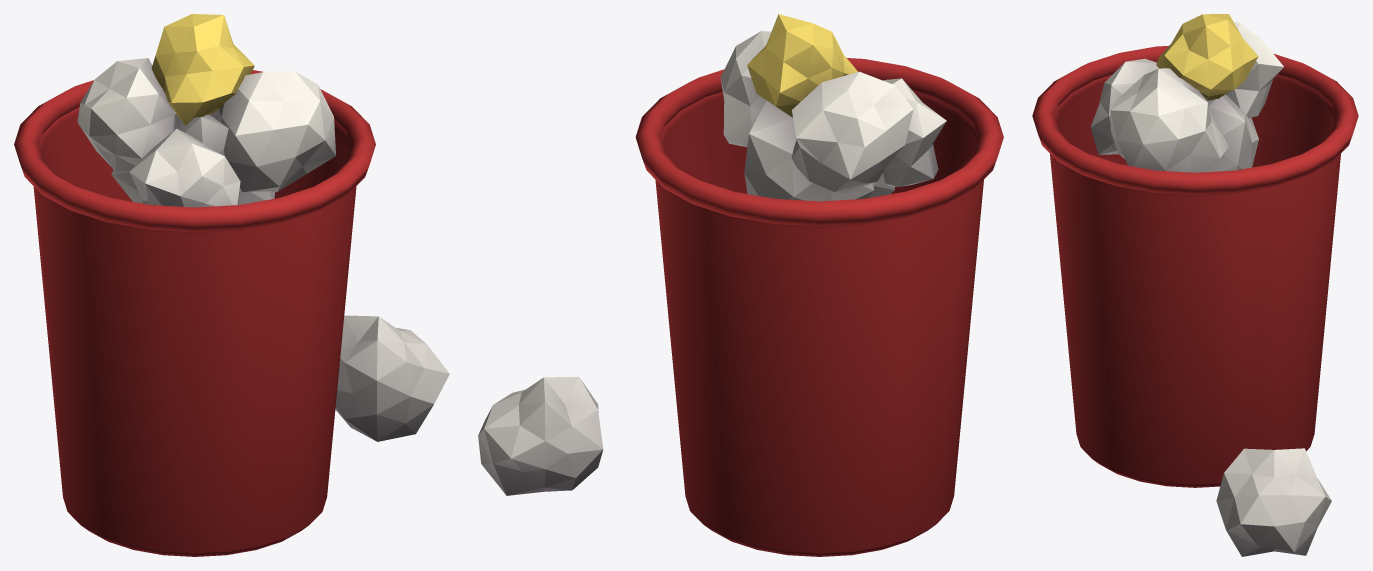
Rendered from trash_can__084.glb.
The picture shows the model from 3 angles, left to right: view 1: azimuth 30°, elevation 25°; view 2: azimuth 150°, elevation 25°; view 3: azimuth 270°, elevation 25°; orthographic projection. The views are drawn at different scales.
Parts seen in each view (by area): view 1: merged_toon_ffffff, merged_toon_ffffff_1; view 2: merged_toon_ffffff, merged_toon_ffffff_1; view 3: merged_toon_ffffff, merged_toon_ffffff_1.
Part boxes in pixels (x1=…): merged_toon_ffffff: x1=14, y1=70, x2=375, y2=556; merged_toon_ffffff_1: x1=77, y1=14, x2=449, y2=441; merged_toon_ffffff: x1=635, y1=58, x2=1003, y2=556; merged_toon_ffffff_1: x1=478, y1=14, x2=946, y2=495; merged_toon_ffffff: x1=1032, y1=46, x2=1358, y2=487; merged_toon_ffffff_1: x1=1090, y1=14, x2=1331, y2=556.
Size of the model in its own units: 0.4665 by 0.4929 by 0.3308.
